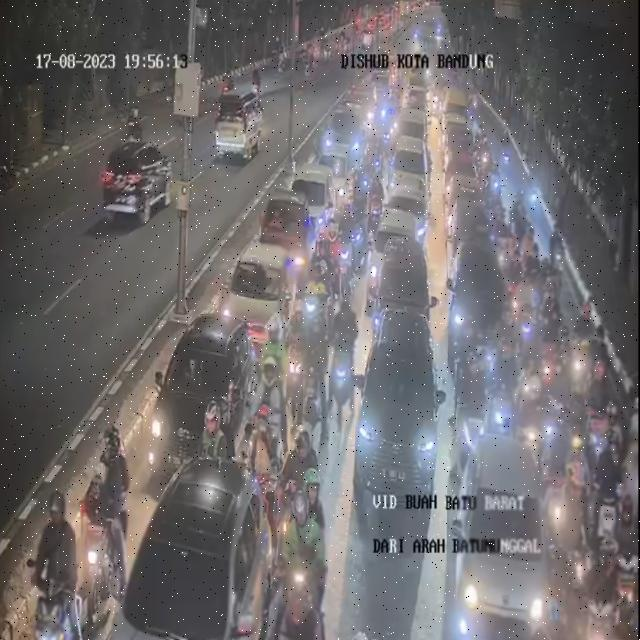bunch of motorcycle: (457, 195, 637, 639)
cars: (115, 458, 266, 640), (448, 435, 549, 639), (147, 315, 257, 497), (354, 307, 446, 519), (222, 239, 297, 354), (448, 241, 507, 367), (368, 237, 438, 329), (261, 188, 315, 284), (368, 208, 418, 297), (448, 196, 491, 275), (389, 153, 428, 232), (390, 108, 429, 185), (293, 163, 337, 225), (317, 136, 351, 204), (330, 106, 365, 164), (446, 173, 483, 221), (446, 151, 474, 184), (448, 126, 472, 149)
motorcycle: (278, 486, 328, 640), (31, 494, 75, 640), (329, 299, 361, 428), (248, 408, 280, 529), (303, 306, 331, 432), (284, 435, 318, 531), (198, 398, 229, 483), (255, 359, 286, 439), (286, 303, 305, 417), (258, 328, 288, 390)
